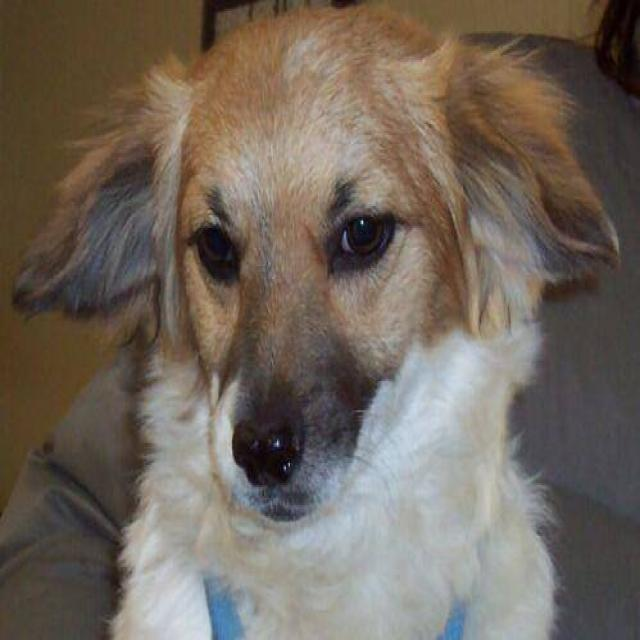dog: (11, 2, 620, 638)
